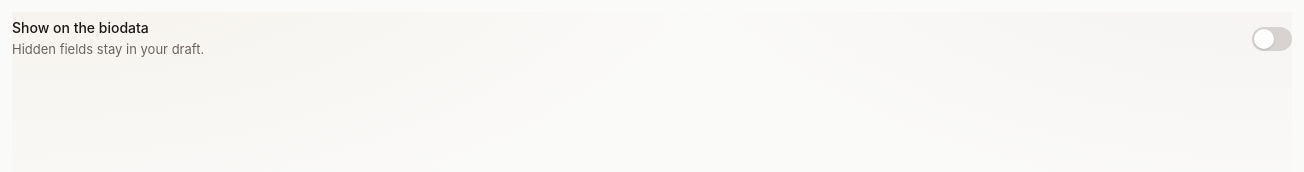
Switch › is a switch named by its label, described by its hint, that turns on and off
Expected: the text "Hidden fields stay in your draft." is shown, [12,40,204,60]
Click the switch labelled "Show on the biodata" at (80, 28), box [12,12,1292,66]
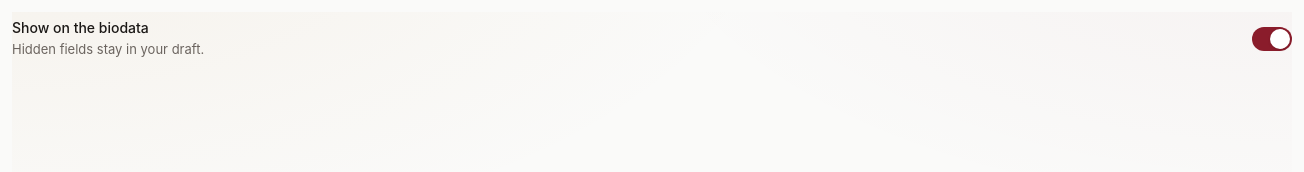
Expected: the switch labelled "Show on the biodata" is checked
Click the switch labelled "Show on the biodata" at (80, 28), box [12,12,1292,66]
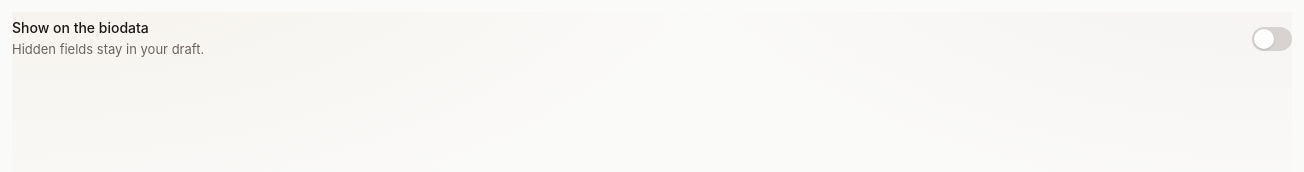
Expected: the switch labelled "Show on the biodata" is not checked, [12,12,1292,66]
